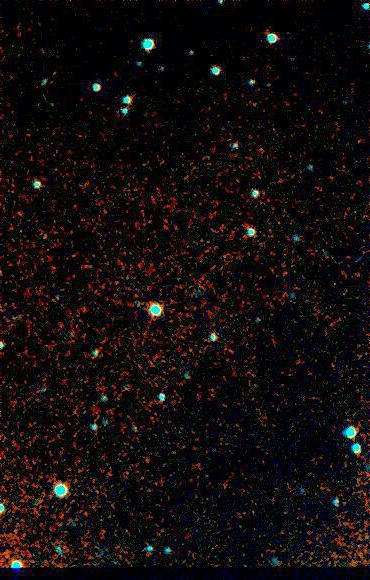star: (165, 377, 195, 407)
